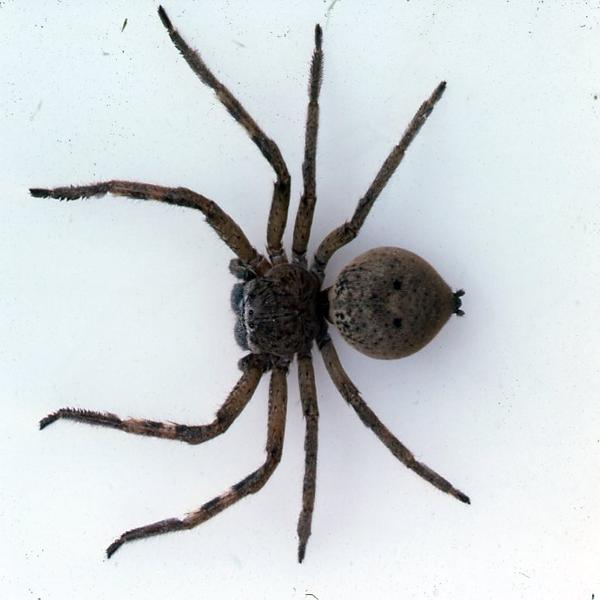Huntsman Spider: (39, 10, 472, 560)
